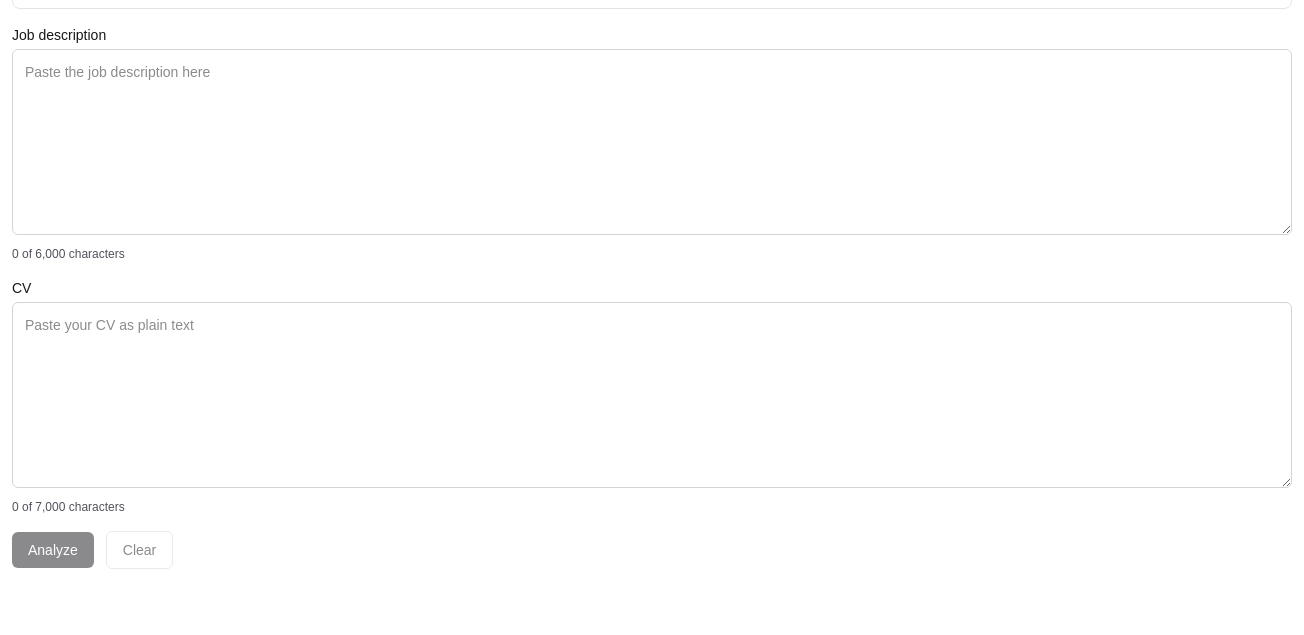
it: KeywordGapAnalyzer: a successful analysis › says so when nothing is missing
The image size is (1304, 635).
Click the text box labelled "Job description" at {"x": 652, "y": 142}, box [12, 49, 1292, 235]
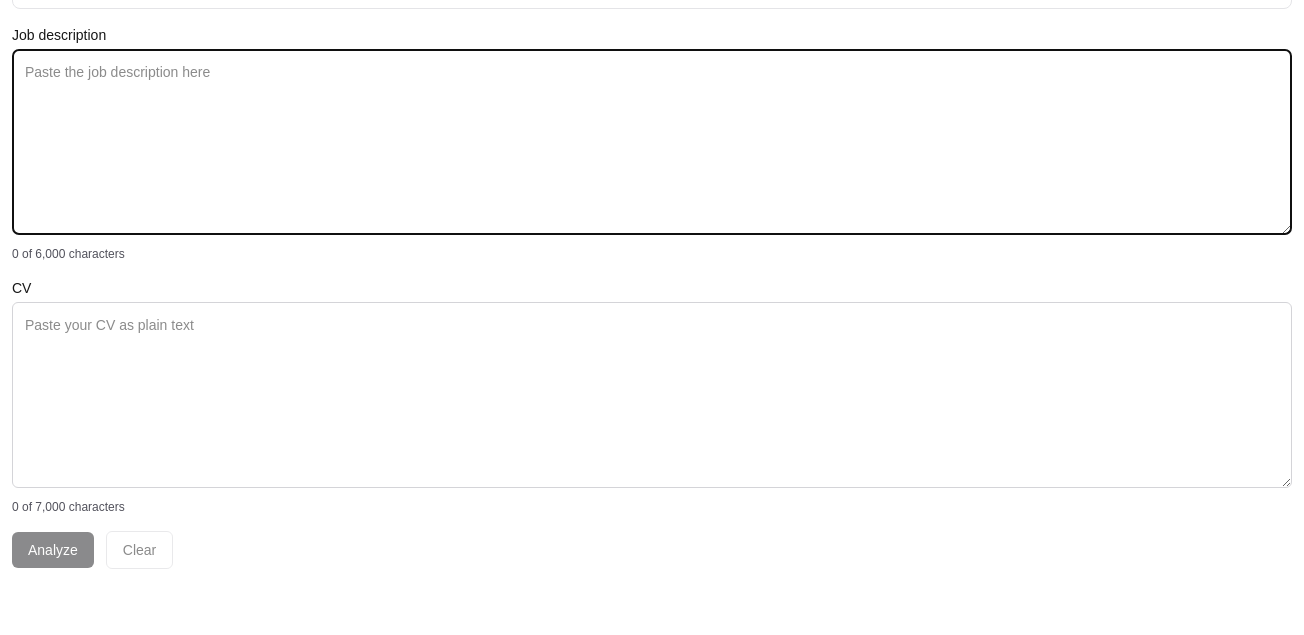
Type keys "Acme Example Ltd is hiring a Frontend Engineer. Required: React, TypeScript, REST APIs, Git and GraphQL. Preferred: Docker and Kubernetes."
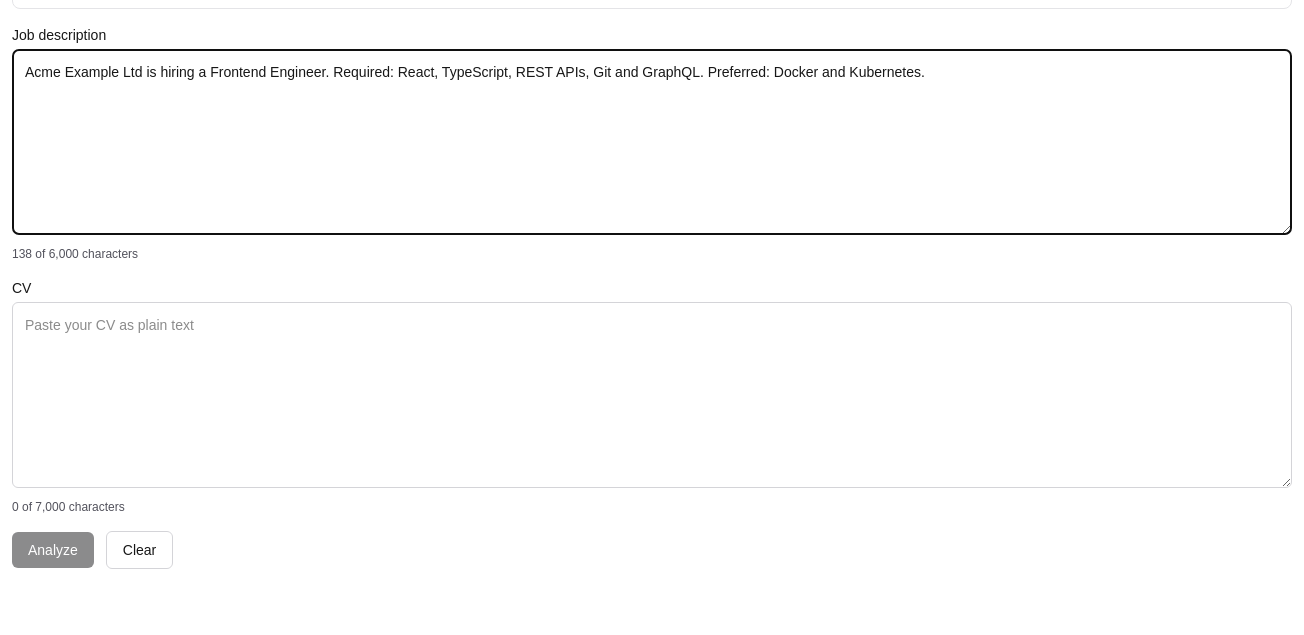
Click the text box labelled "CV" at {"x": 652, "y": 395}, box [12, 302, 1292, 488]
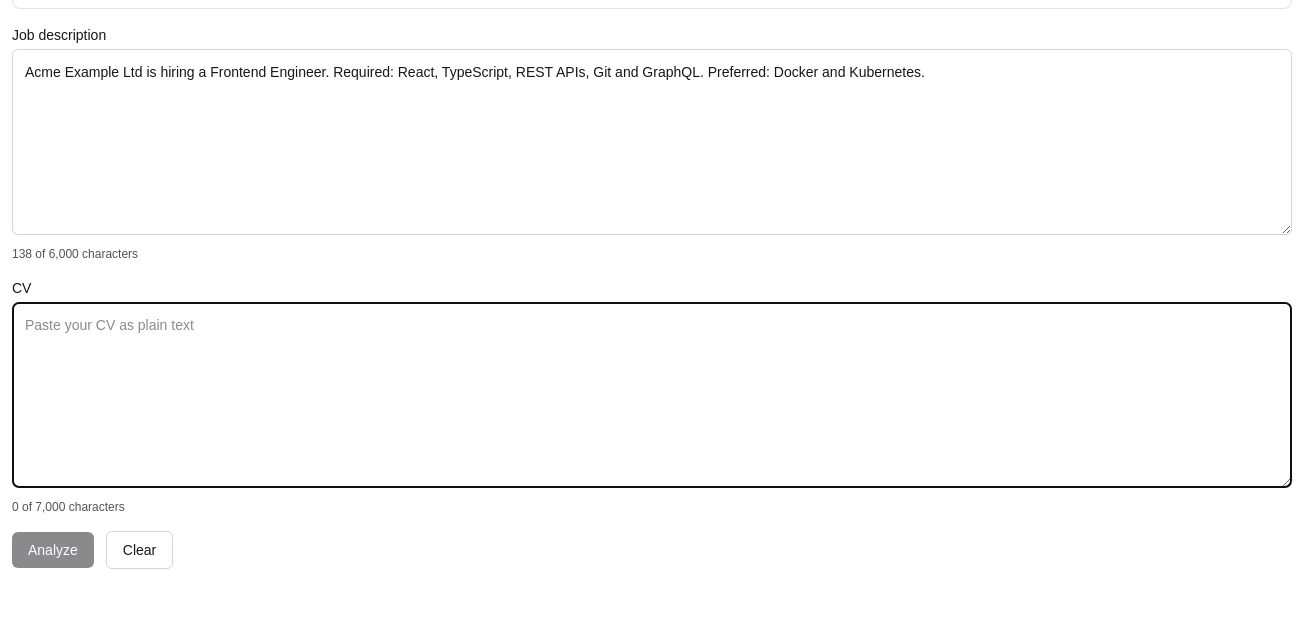
Type keys "Jane Example. Frontend developer. Built single-page apps with React and TypeScript, consumed REST APIs and used Git every day."
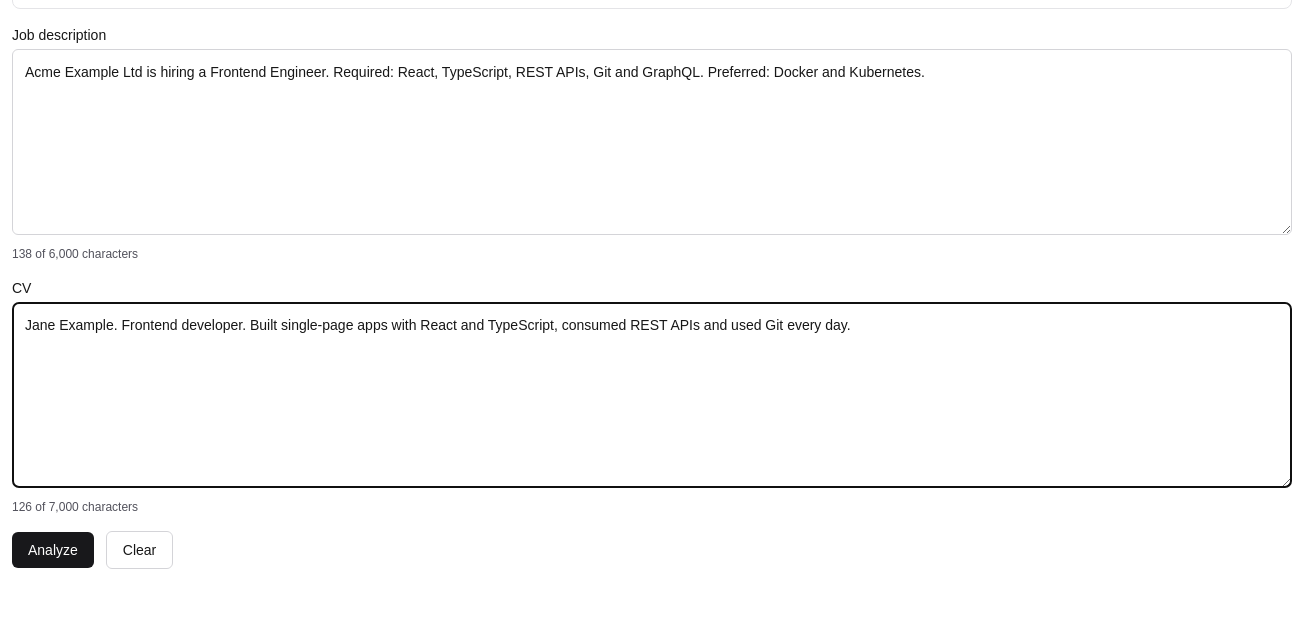
Click the button "Analyze" at {"x": 53, "y": 550}, box [12, 532, 94, 568]
(page scrolled)
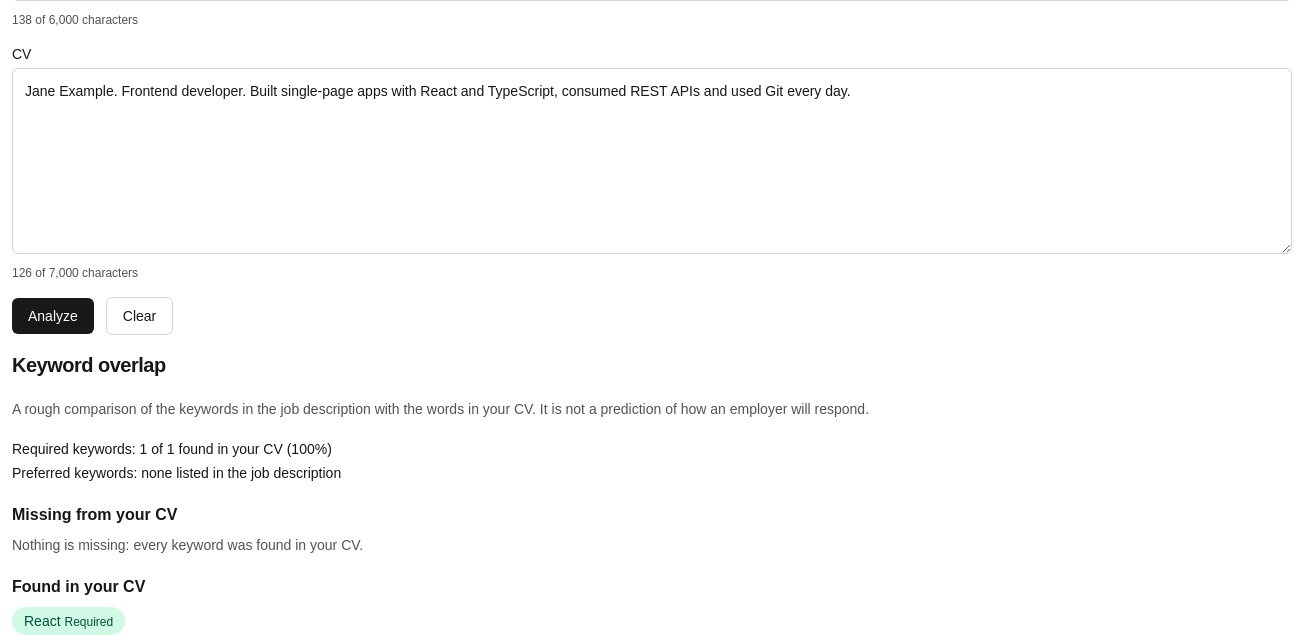
Now the heading "Keyword overlap" is shown, box [12, 354, 166, 376]
Now the text "Nothing is missing: every keyword was found in your CV." is shown, box [12, 537, 363, 553]
Now the list item "Required keywords: 1 of 1 found in your CV (100%)" is shown, box [12, 441, 332, 457]
